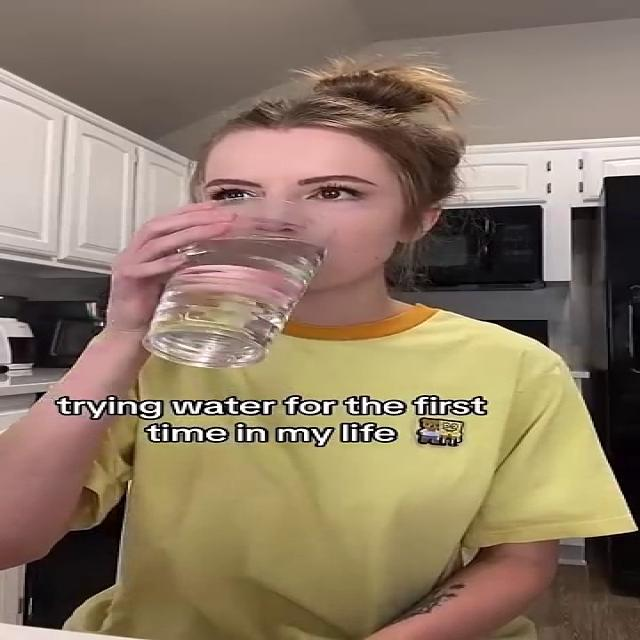Cup: (138, 197, 326, 369)
Hand: (93, 206, 304, 335)
Mouth: (231, 236, 326, 262)
